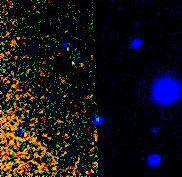star: (56, 49, 86, 79)
